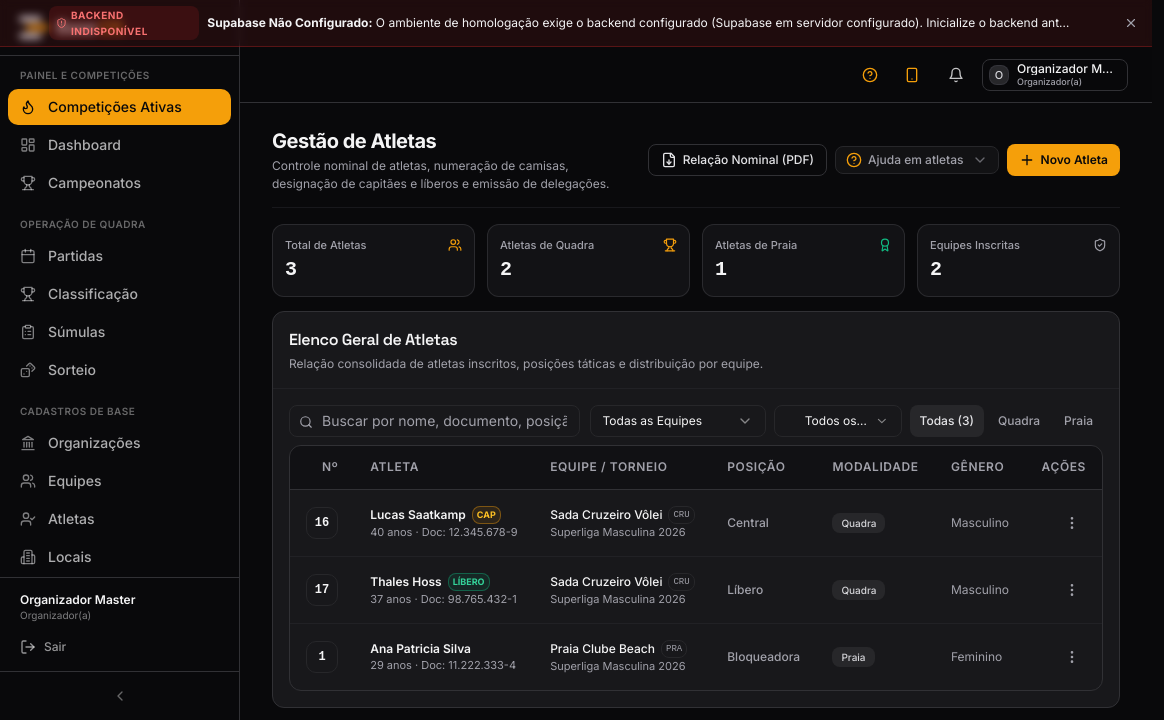
Test: AthletesPage Component (Fase 5.2) › filtra atletas por termo de busca em tempo real
Expected: the text "Lucas Saatkamp" is shown, 370,507 -> 466,523
Type "Thales" into the field with placeholder "Buscar por nome, documento, posição ou camisa..." at (434, 420), box 289,404 -> 580,436
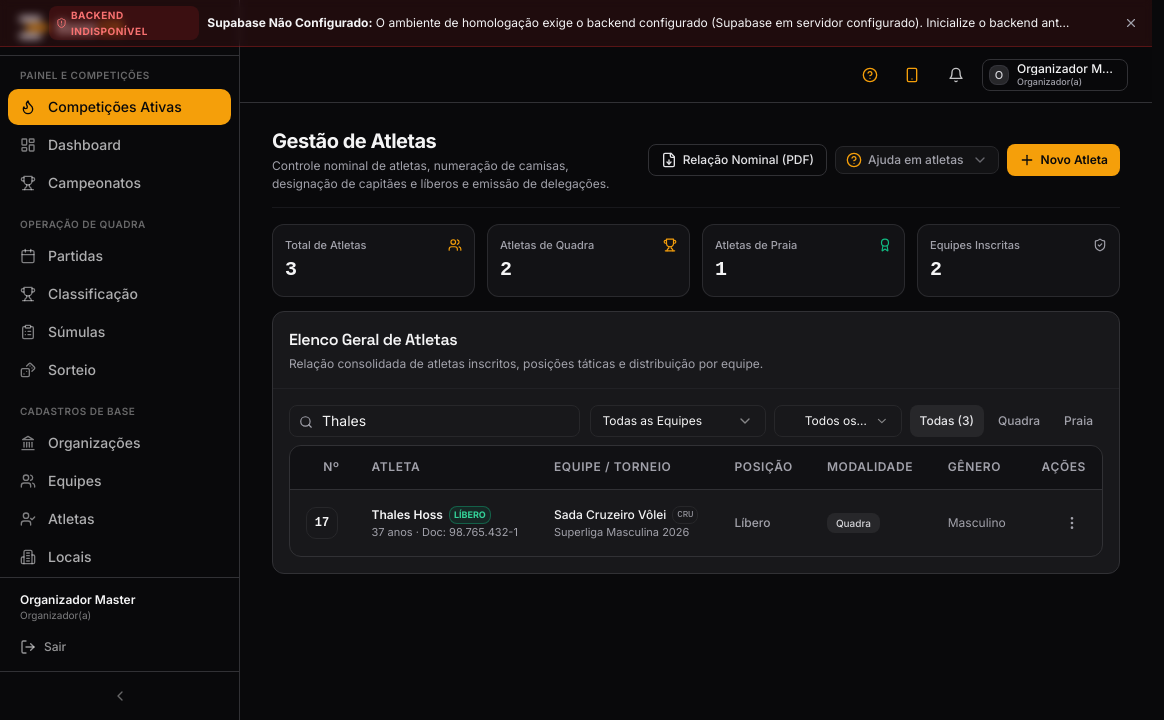
Expected: the text "Thales Hoss" is shown, 372,507 -> 443,523
Expected: the text "Lucas Saatkamp" is gone
Expected: the text "Ana Patricia Silva" is gone
